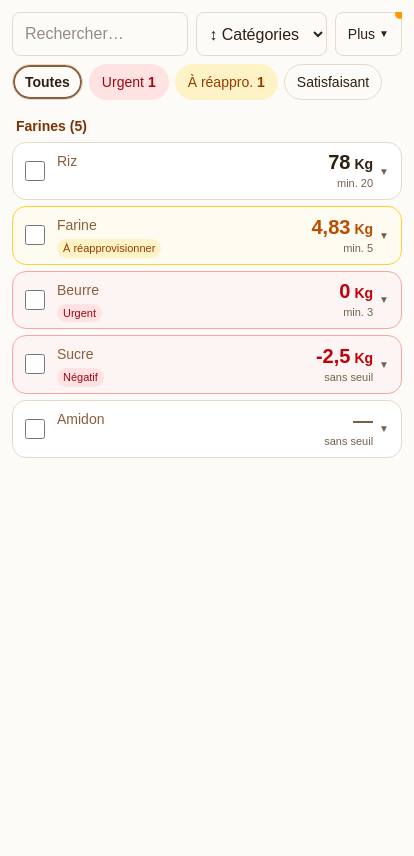
Test: rangée compacte — le stock en évidence › garde la case des actions groupées, avec une zone de 44 px
The width and height of the screenshot is (414, 856).
Click the checkbox named "Sélectionner Riz" at [35, 171], box [25, 161, 45, 181]
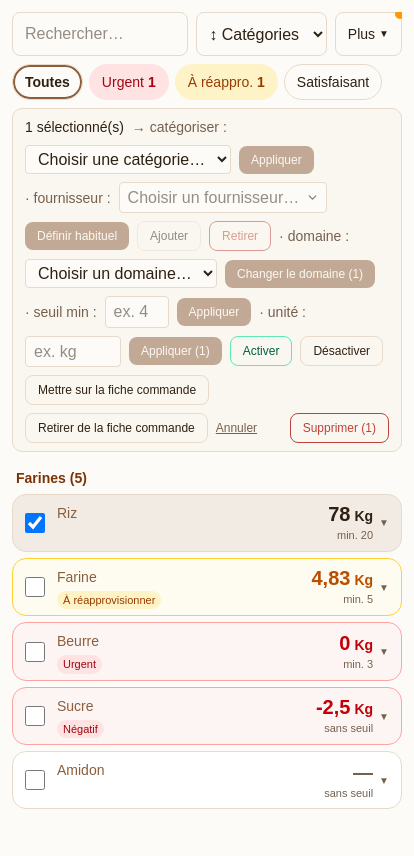
Expected: the text "1 sélectionné(s)" is shown, [25, 117, 124, 137]
